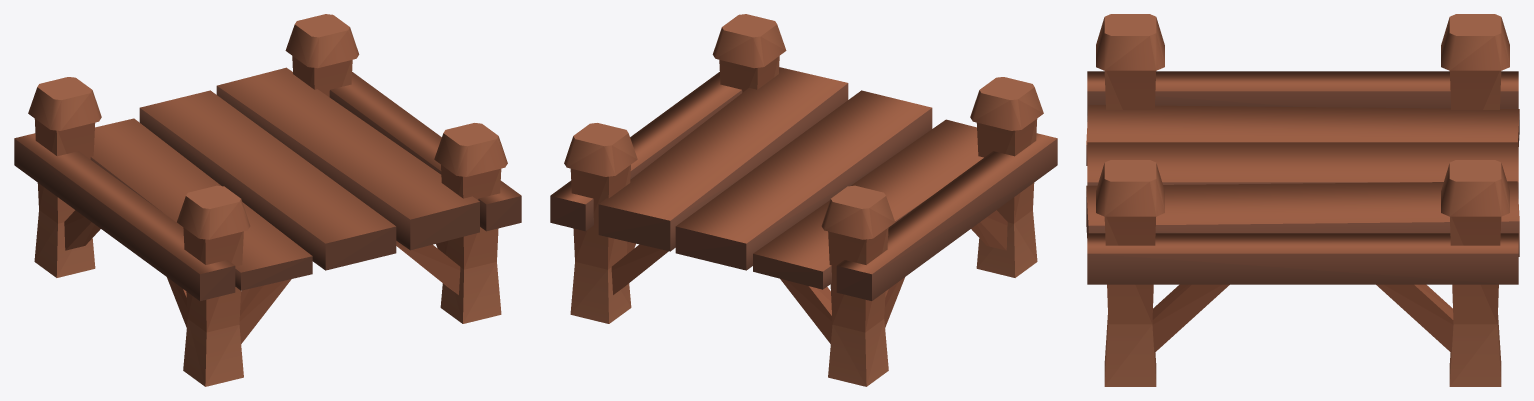
File: pirate_structure_platform_dock.glb
3 renders of one model, left to right at view 1: azimuth 30°, elevation 25°; view 2: azimuth 150°, elevation 25°; view 3: azimuth 270°, elevation 25°, orthographic. The views are drawn at different scales.
Parts seen in each view (by area): view 1: pirate_structure_platform_dock; view 2: pirate_structure_platform_dock; view 3: pirate_structure_platform_dock.
Boxes of the visible parts, box(x1,y1,x2,y2) form: pirate_structure_platform_dock: box(14, 14, 521, 386); pirate_structure_platform_dock: box(550, 14, 1057, 386); pirate_structure_platform_dock: box(1086, 14, 1519, 386).
Size of the model in its own units: 2.5 by 1.31 by 2.51.
